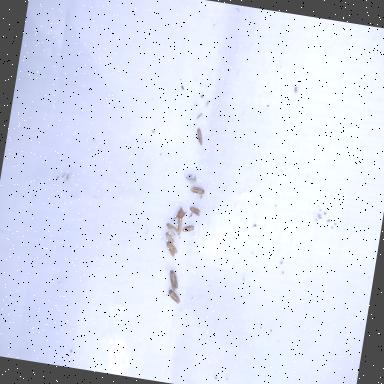pbw: (162, 238, 180, 261), (191, 127, 206, 150), (162, 287, 182, 304), (166, 268, 180, 290), (174, 216, 184, 236), (162, 229, 176, 243), (165, 222, 180, 232), (188, 185, 204, 194), (188, 205, 201, 216), (182, 223, 196, 233)
